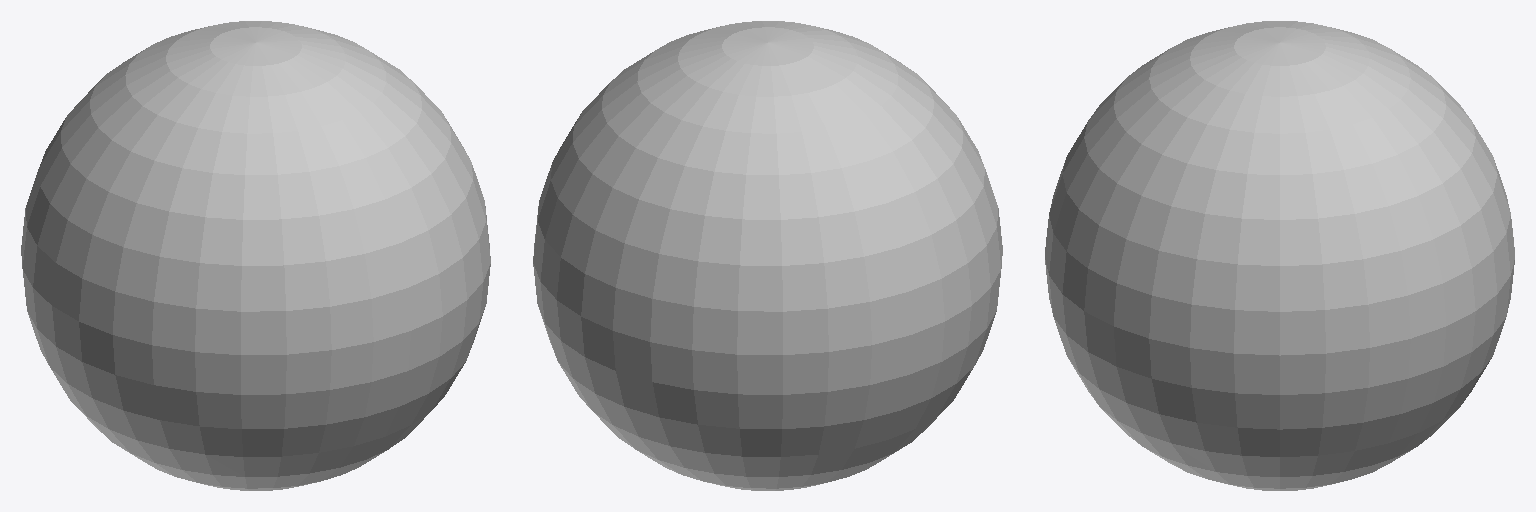
Rendered from navball.obj.
3 renders of one model, left to right at view 1: azimuth 30°, elevation 25°; view 2: azimuth 150°, elevation 25°; view 3: azimuth 270°, elevation 25°, orthographic.
Visible parts, largest first — view 1: Sphere.001; view 2: Sphere.001; view 3: Sphere.001.
Boxes of the visible parts, <box> form: Sphere.001: <box>21,21,490,490</box>; Sphere.001: <box>533,21,1002,490</box>; Sphere.001: <box>1045,21,1514,490</box>.
Size of the model in its own units: 0.0566 by 0.0566 by 0.0566.